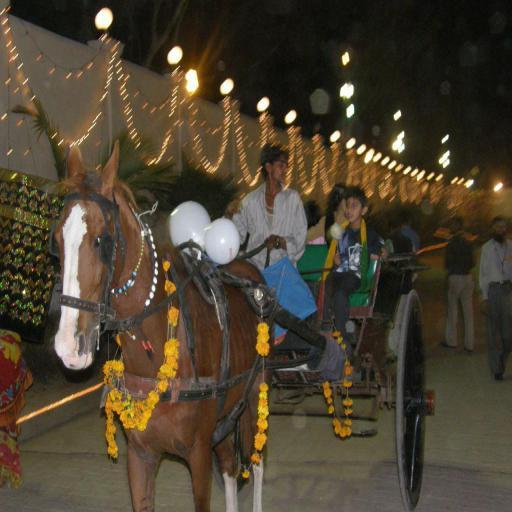horse: (50, 140, 278, 512)
